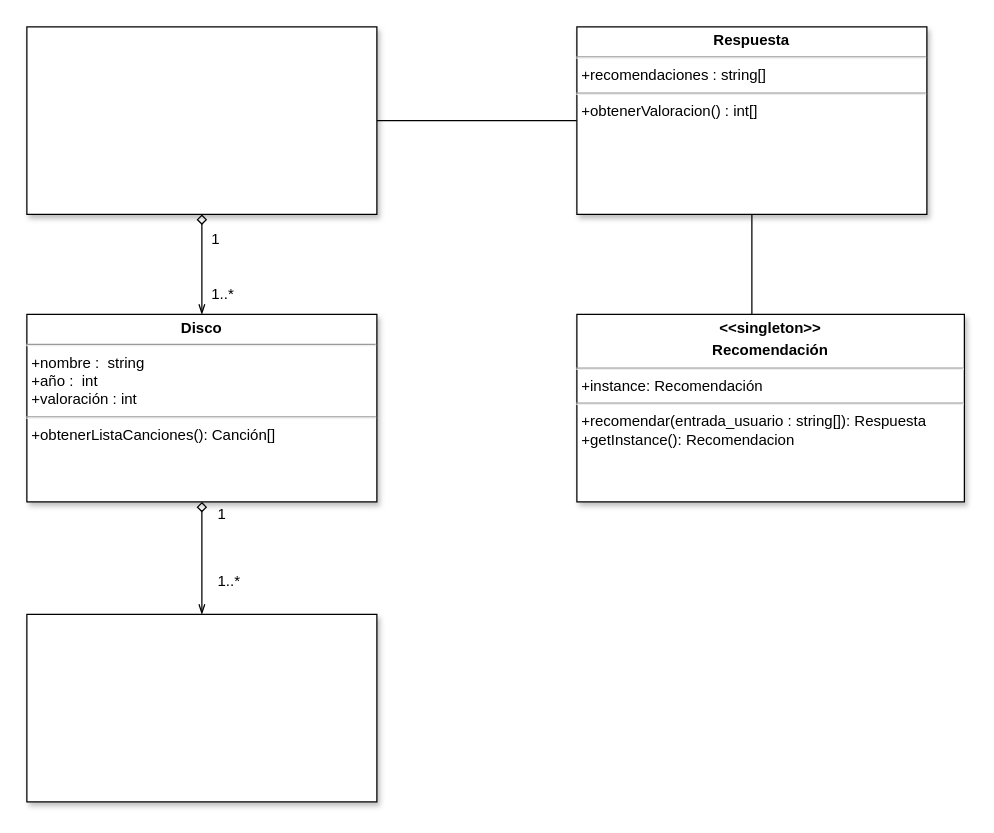
This 994x833 diagram has some shape labels left out. Here are the shapes that lost their labels. From the top down, the centre of each, then its label:
At (202,122): "Grupo +nombre: string +género : string +valoración: int".
At (202,709): "Canción +nombre : string +duración : int +valoración: int +enlace : string".
